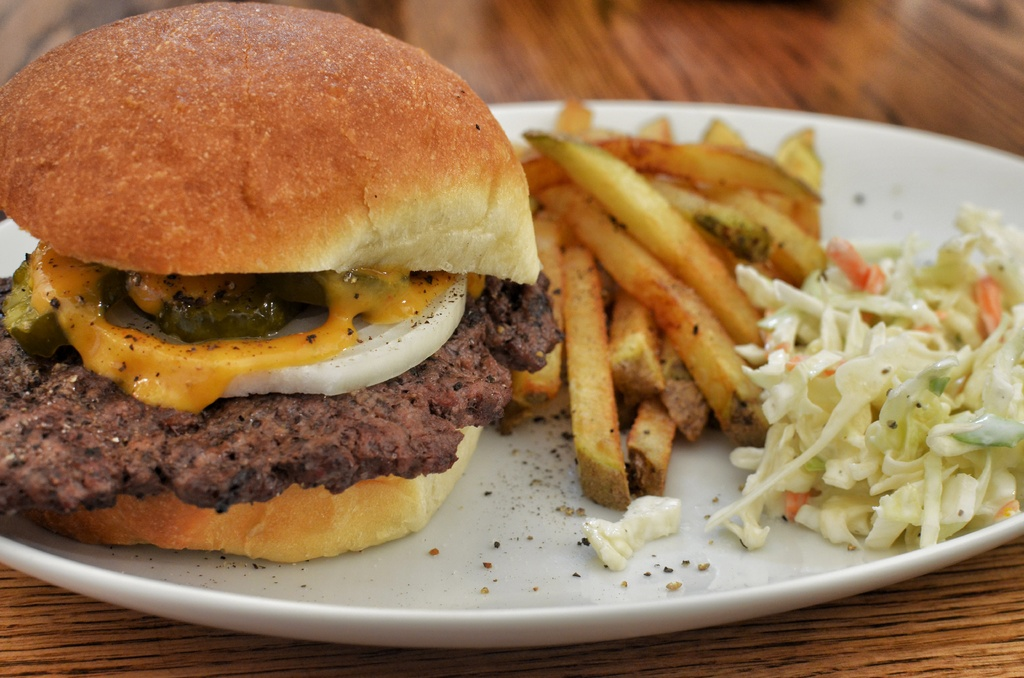French fries: (505, 92, 869, 524)
